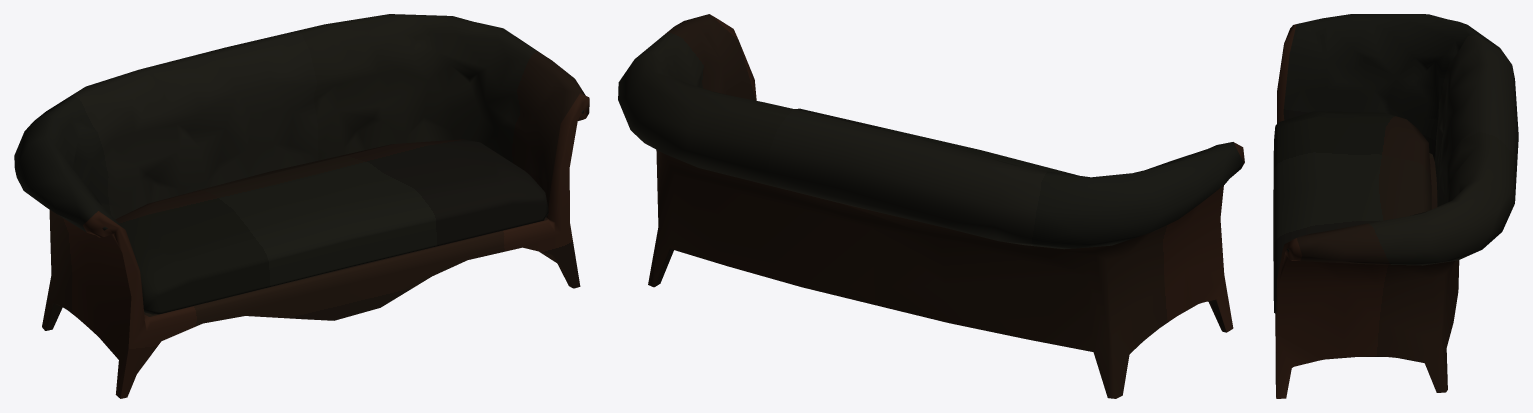
The model's file is ph_sofa_1.glb.
3 views of the same model, side by side, from view 1: azimuth 30°, elevation 25°; view 2: azimuth 150°, elevation 25°; view 3: azimuth 270°, elevation 25° (orthographic). The views are drawn at different scales.
Parts seen in each view (by area): view 1: ph_sofa_1; view 2: ph_sofa_1; view 3: ph_sofa_1.
Boxes of the visible parts, x1,y1,x2,y2 form: ph_sofa_1: (14,14,589,398); ph_sofa_1: (618,14,1244,398); ph_sofa_1: (1273,14,1518,398).
Size of the model in its own units: 1.8 by 0.7095 by 0.8177.
Materials: 1 (1 with a texture image).
